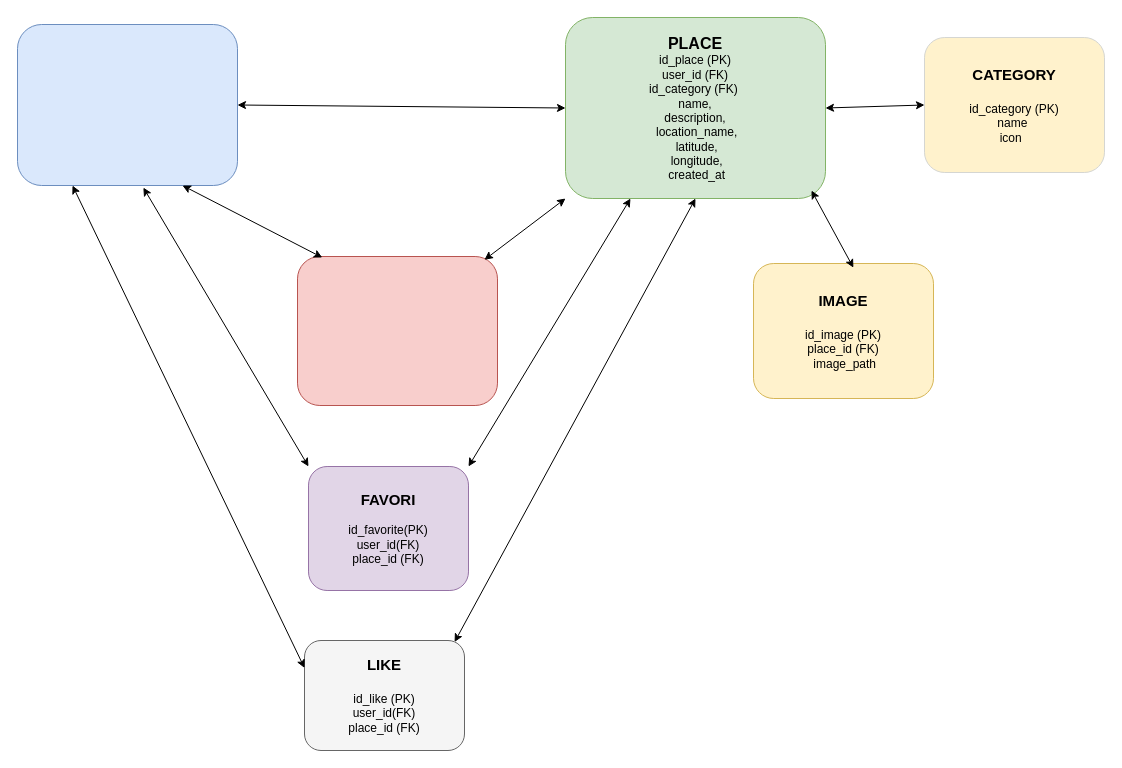
The diagram is 1122 pixels wide and 768 high, and some of its shapes have lost their labels. Each missing label, with the centre of its shape:
"AVIS id_review (PK) user_id(FK) place_id (FK) rating comment created_at" belongs at pixel 397 331.
"USER id_user (PK) username email (UNIQUE) password created_at date_nessaince" belongs at pixel 127 105.
